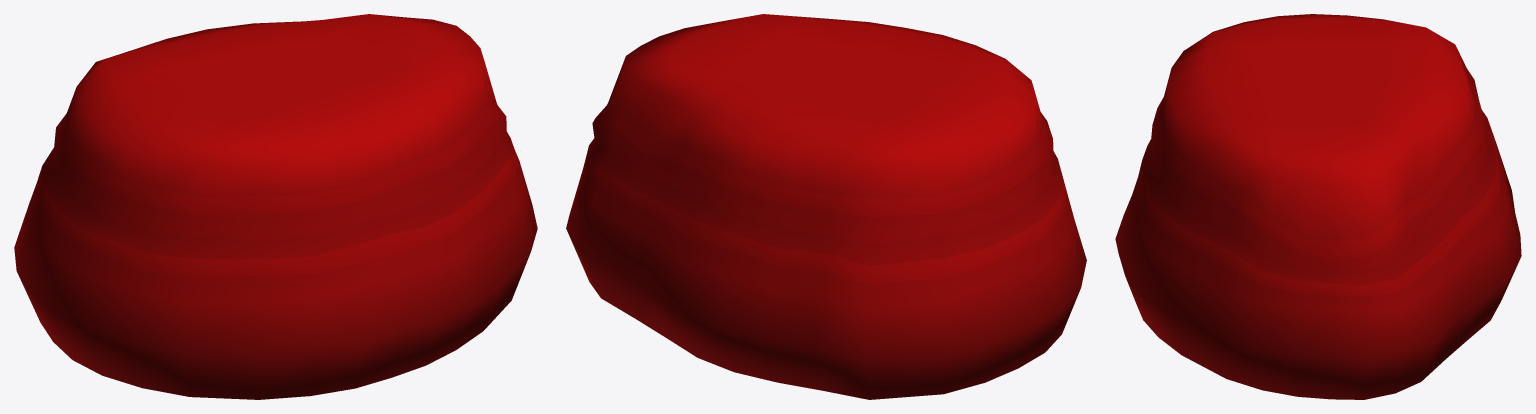
The model's file is geology-landforms-sandstonerocktiny_v2.fbx.
The picture shows the model from 3 angles, left to right: view 1: azimuth 30°, elevation 25°; view 2: azimuth 150°, elevation 25°; view 3: azimuth 270°, elevation 25°; orthographic projection. The views are drawn at different scales.
Parts seen in each view (by area): view 1: SandstoneRockTiny_v2; view 2: SandstoneRockTiny_v2; view 3: SandstoneRockTiny_v2.
Boxes of the visible parts, x1,y1,x2,y2 form: SandstoneRockTiny_v2: [14, 14, 537, 399]; SandstoneRockTiny_v2: [566, 14, 1086, 399]; SandstoneRockTiny_v2: [1115, 14, 1521, 399].
Size of the model in its own units: 39.15 by 18.49 by 31.35.
